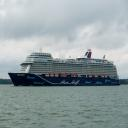cruises: (8, 47, 123, 87)
